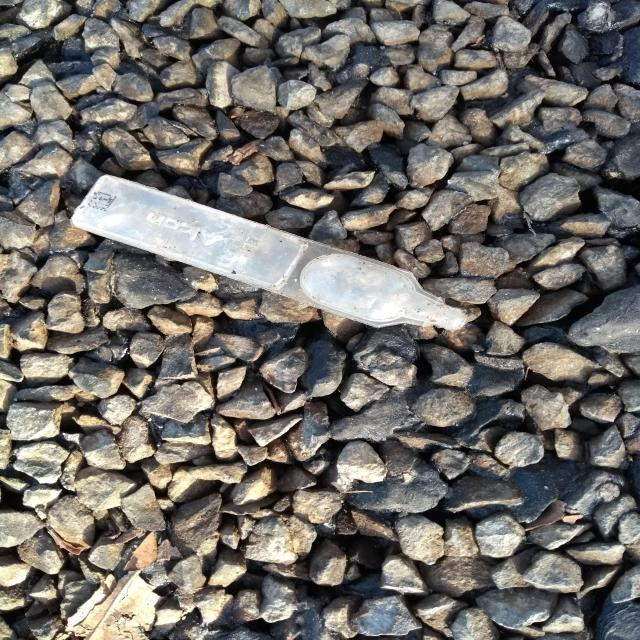litter: (70, 175, 466, 332)
